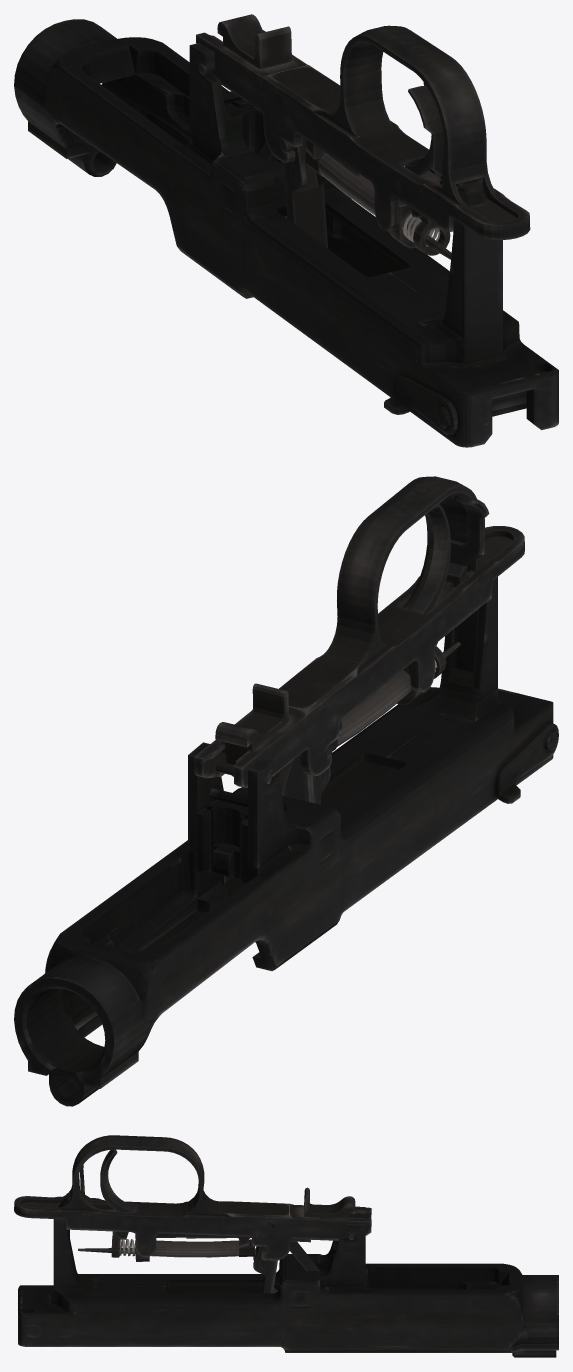
3 views of the same model, one above another, from view 1: azimuth 30°, elevation 25°; view 2: azimuth 150°, elevation 25°; view 3: azimuth 270°, elevation 25° (orthographic). The views are drawn at different scales.
Parts seen in each view (by area): view 1: TW_574d967124597745970e7c94_PZ_Import; view 2: TW_574d967124597745970e7c94_PZ_Import; view 3: TW_574d967124597745970e7c94_PZ_Import.
Boxes of the visible parts, x1=… form: TW_574d967124597745970e7c94_PZ_Import: x1=14, y1=14, x2=558, y2=447; TW_574d967124597745970e7c94_PZ_Import: x1=14, y1=476, x2=558, y2=1106; TW_574d967124597745970e7c94_PZ_Import: x1=14, y1=1135, x2=558, y2=1357.
Bounding box in the file's own units: 0.0214 × 0.1418 × 0.0624.
Materials: 1 (1 with a texture image).
